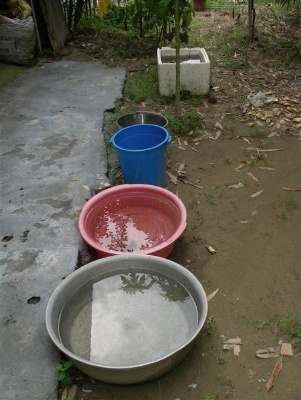bowl: (45, 254, 209, 386), (78, 183, 186, 259)
bucket: (112, 124, 172, 188)
plastic_bag: (1, 1, 37, 65)
styrofoam: (156, 45, 211, 97)
